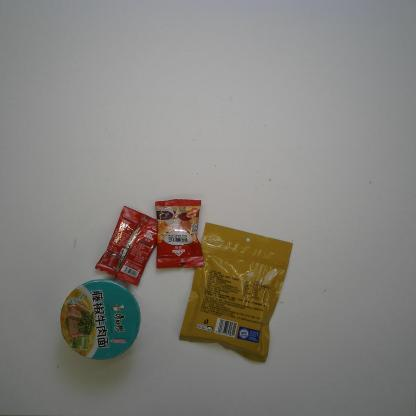Dried Fruit: (179, 222, 293, 364)
Instant Drink: (94, 204, 160, 288), (154, 198, 206, 270)
Instant Noodles: (60, 278, 142, 361)
